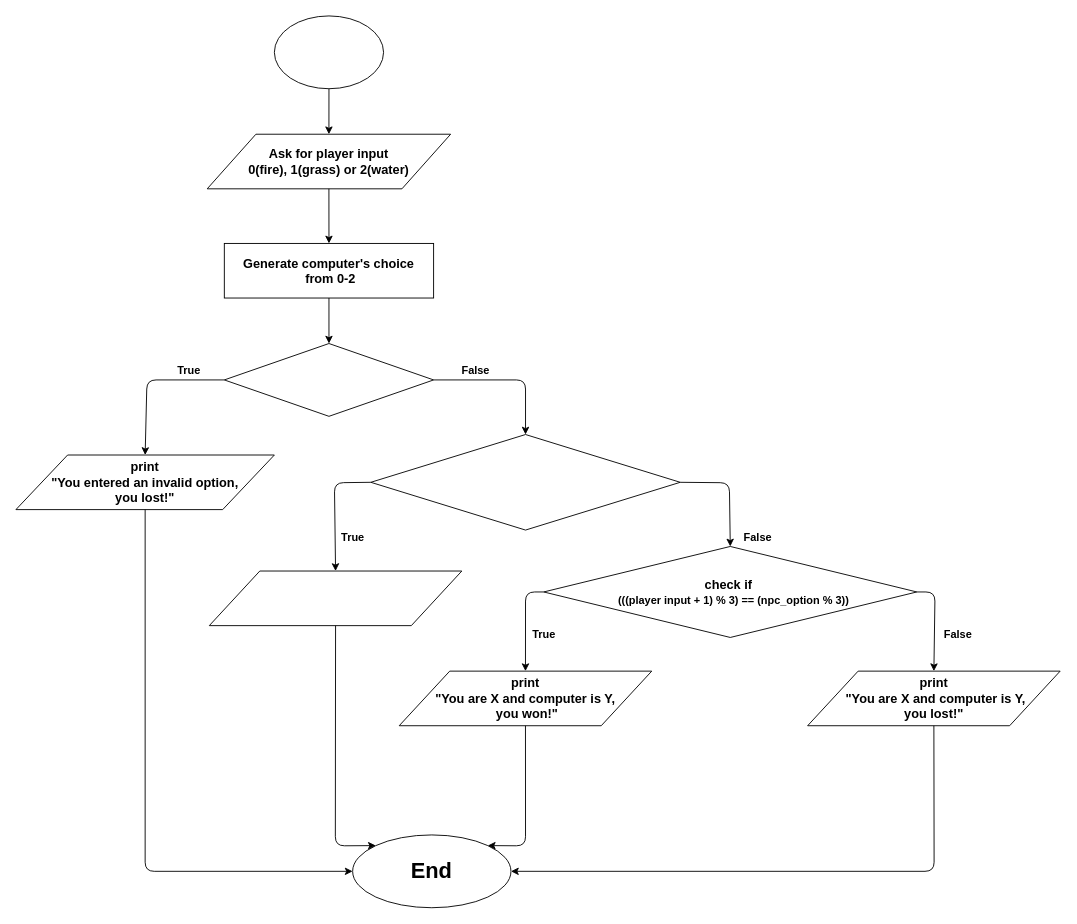
This 1077x924 diagram has some shape labels left out. The centre of each missing label's shape, as x and y in pixels:
check if player input == computer's choice: (x=525, y=482)
check if player input is not valid: (x=328, y=379)
print "Draw!": (x=335, y=598)
Start: (x=328, y=52)
